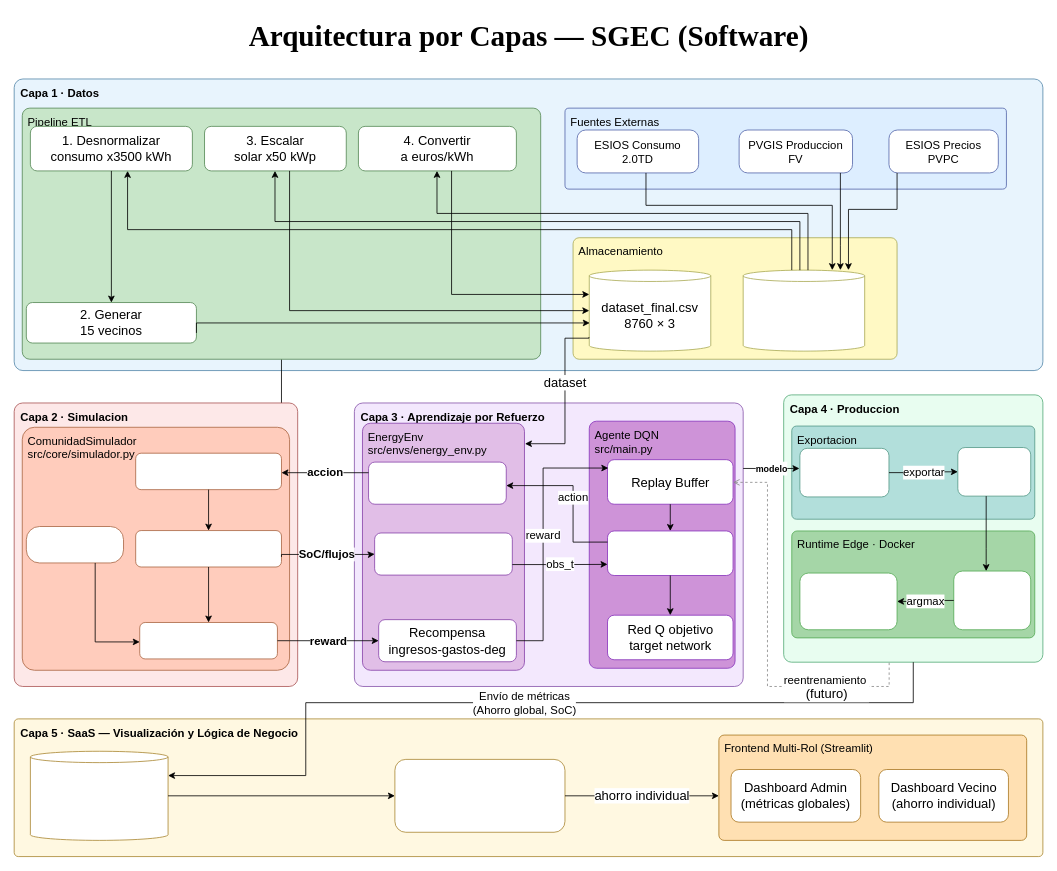
The diagram is 1057 pixels wide and 871 high, and some of its shapes have lost their labels. Each missing label, with the centre of its shape:
Accion Discrete(13): [437,482]
Base de Datos PostgreSQL (perfiles + historial): [99,795]
data/raw/: [803,310]
Degradacion no lineal: [75,544]
Inferencia onnxruntime + numpy: [992,600]
Mapa de Acciones 13 decisiones macro: [208,471]
Modelo de Bateria 100 kWh · 50 kW: [208,548]
Modelo entrenado .zip: [844,472]
Modelo exportado .onnx: [994,471]
Motor Economico cash flow neto: [208,640]
Motor Post-Procesado (Determinista) ahorro_total × cuota_vecino: [479,795]
Observacion Box(76,) float32: [443,553]
Politica DQN MLP obs→Q-values: [670,553]
Simulador ligero sin SB3/Gymnasium: [848,601]
